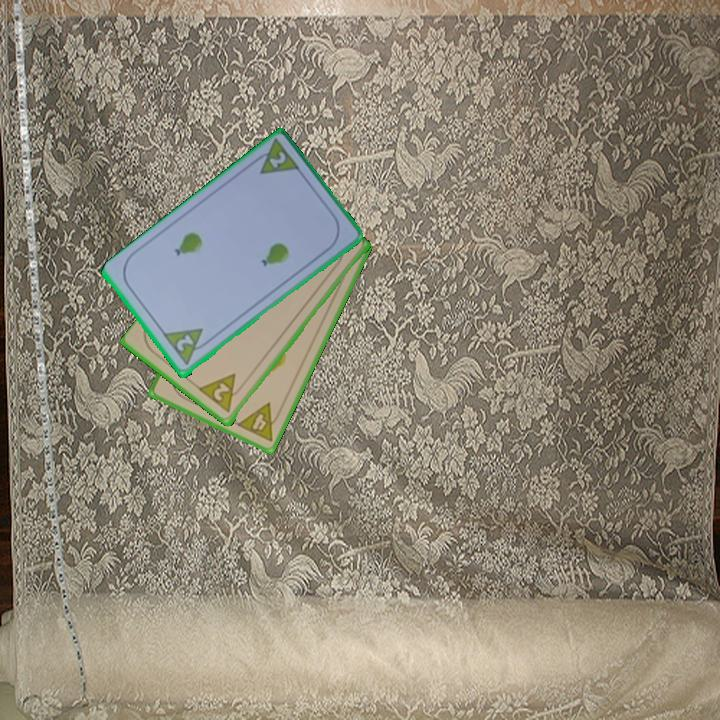2p: (160, 325, 214, 369), (247, 136, 303, 178), (196, 370, 247, 416)
4p: (233, 399, 285, 445)
